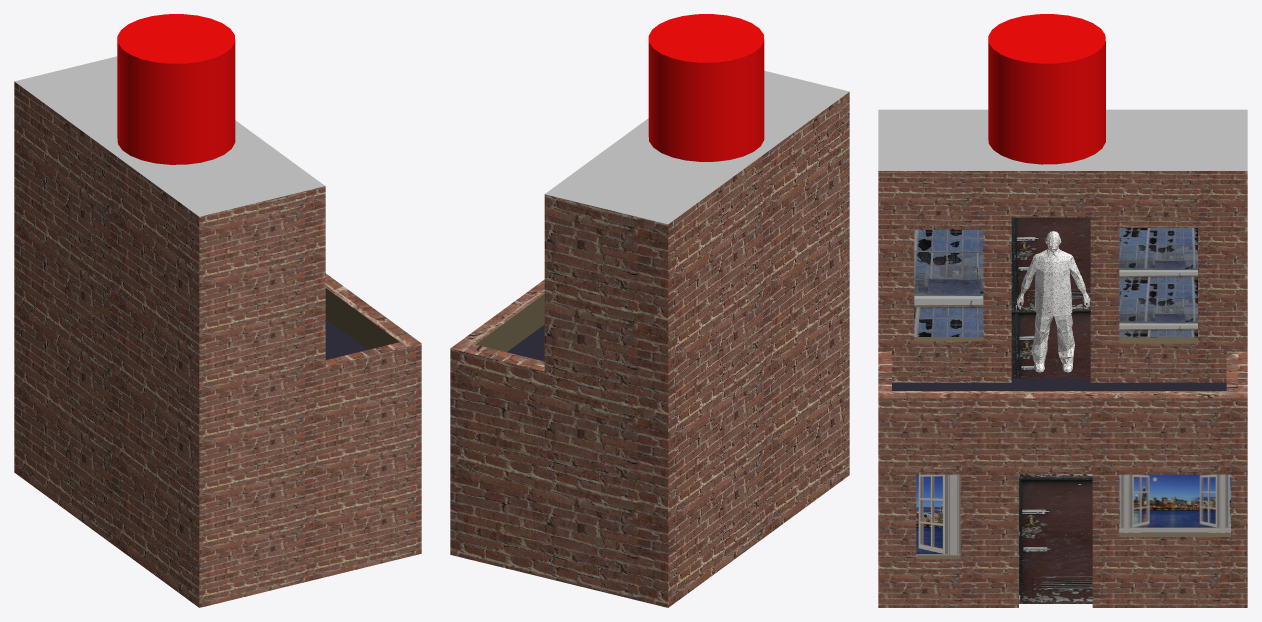
Rendered from Casa sola.dae.
The picture shows the model from 3 angles, left to right: view 1: azimuth 30°, elevation 25°; view 2: azimuth 150°, elevation 25°; view 3: azimuth 270°, elevation 25°; orthographic projection.
Visible parts, largest first — view 1: SketchUp (×5); view 2: SketchUp (×5); view 3: SketchUp (×11), Skin_Mesh.
Boxes of the visible parts, x1=… form: SketchUp (×5): x1=14, y1=14, x2=421, y2=607; SketchUp (×5): x1=450, y1=14, x2=849, y2=607; SketchUp (×11): x1=878, y1=14, x2=1247, y2=607; Skin_Mesh: x1=1017, y1=249, x2=1090, y2=364.
Size of the model in its own units: 3.25 by 4.69 by 6.88.
